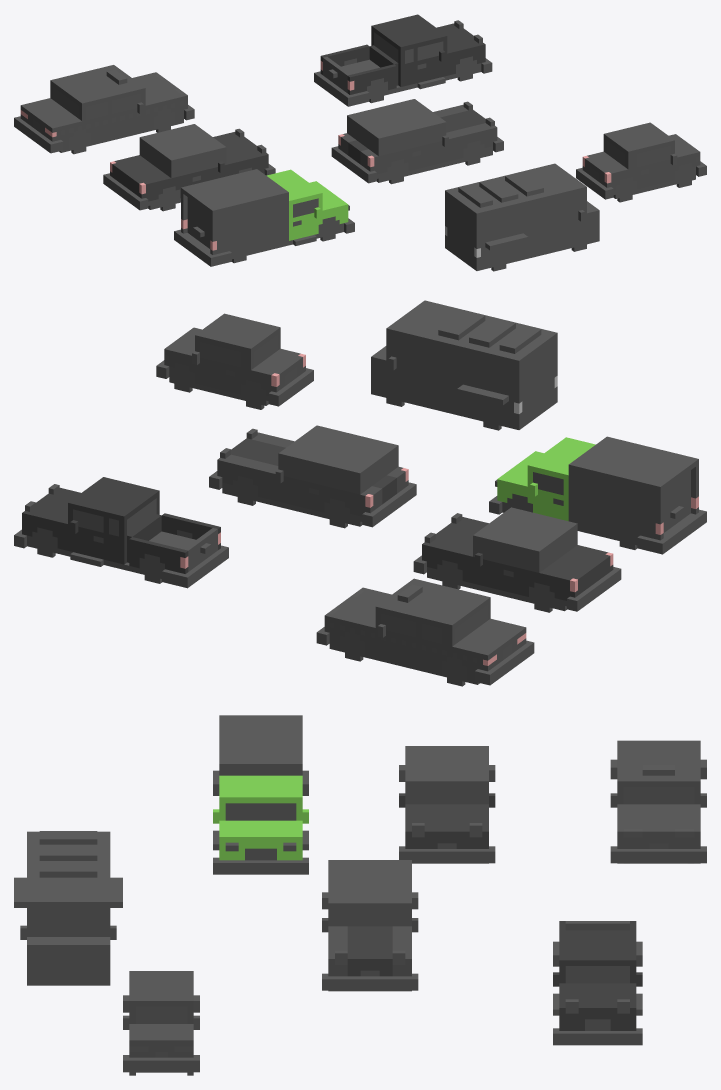
Rendered from scene_vehicles2.obj.
3 views of the same model, one above another, from view 1: azimuth 30°, elevation 25°; view 2: azimuth 150°, elevation 25°; view 3: azimuth 270°, elevation 25° (orthographic). The views are drawn at different scales.
Bounding box in the file's own units: 111 × 15 × 108.
